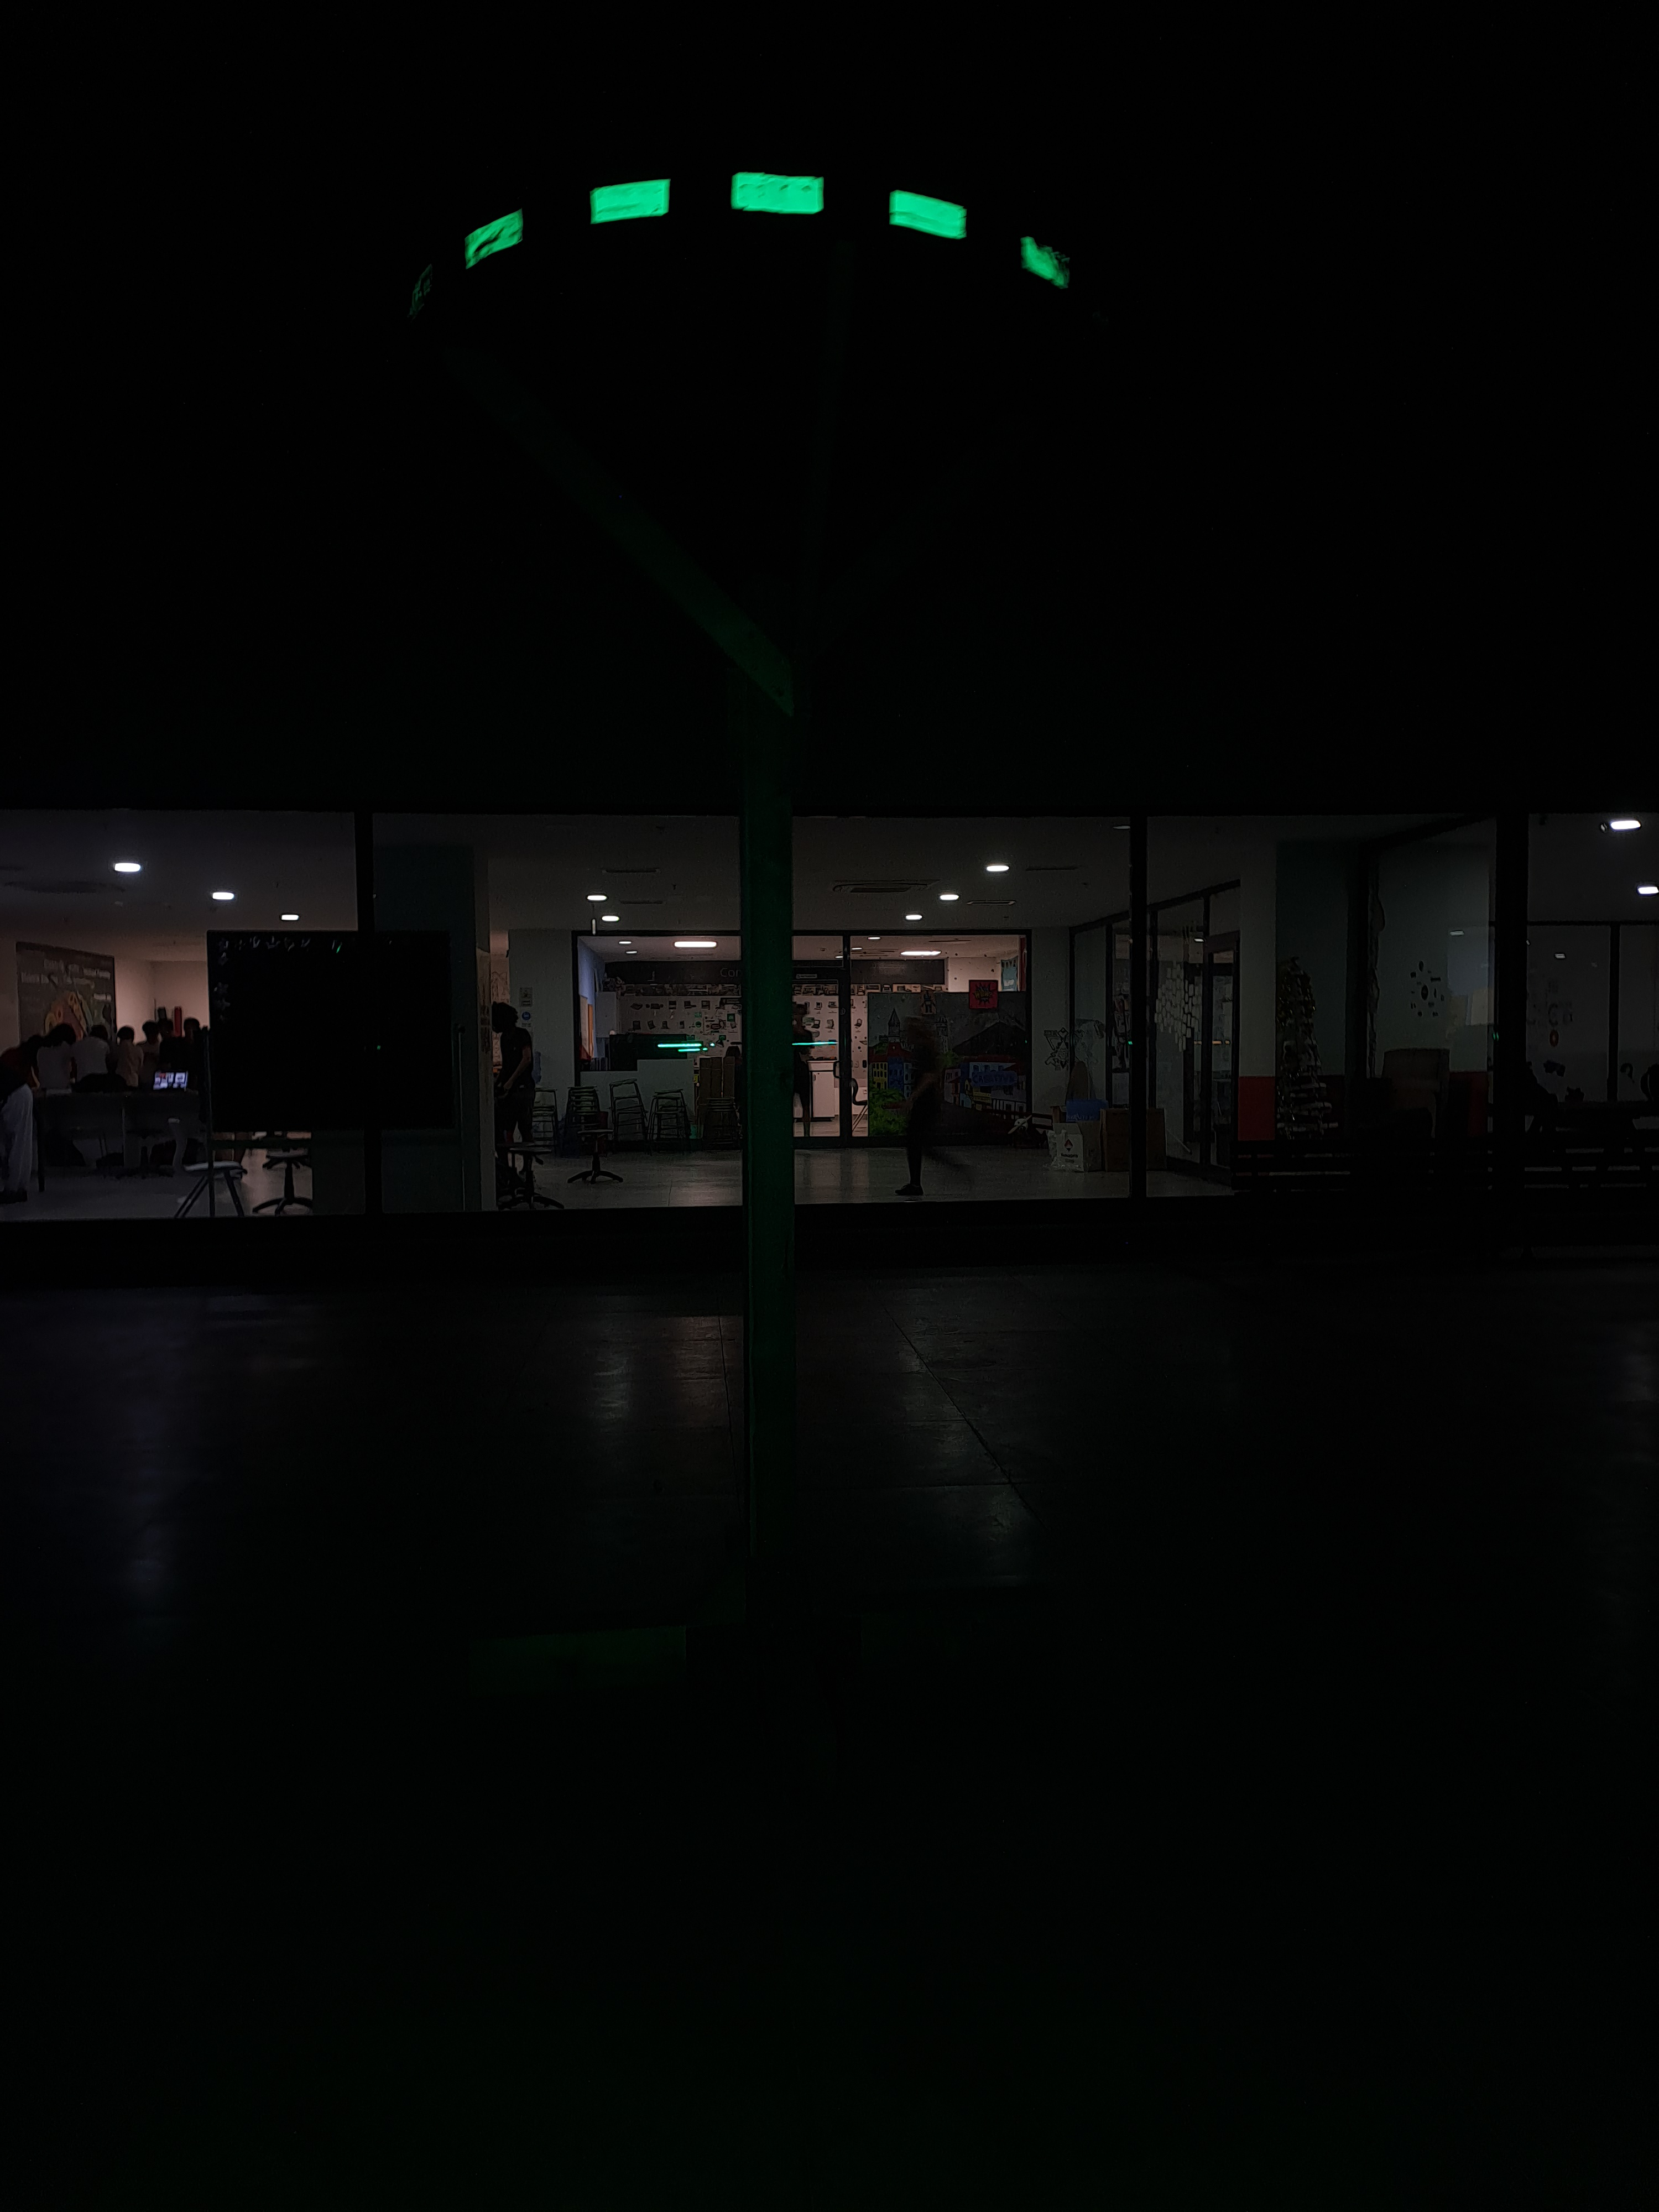hoop: (408, 172, 1075, 308)
